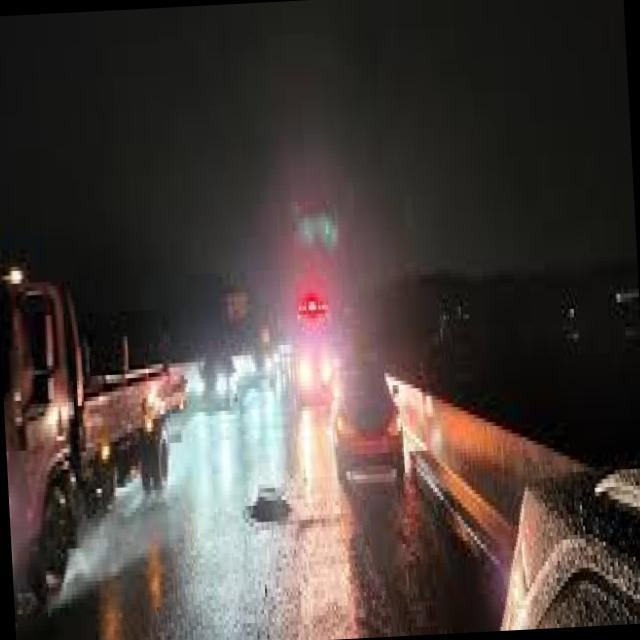pothole: (234, 468, 300, 544)
